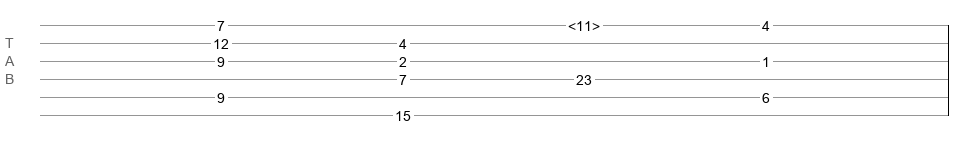1: (762, 54, 770, 64)
12: (213, 36, 229, 46)
15: (395, 108, 411, 118)
2: (399, 54, 407, 64)
23: (576, 72, 592, 82)
4: (399, 36, 407, 46), (762, 18, 770, 28)
6: (762, 90, 770, 100)
7: (217, 18, 225, 28), (399, 72, 407, 82)
9: (217, 54, 225, 64), (217, 90, 225, 100)
harmonic: (568, 18, 600, 28)
